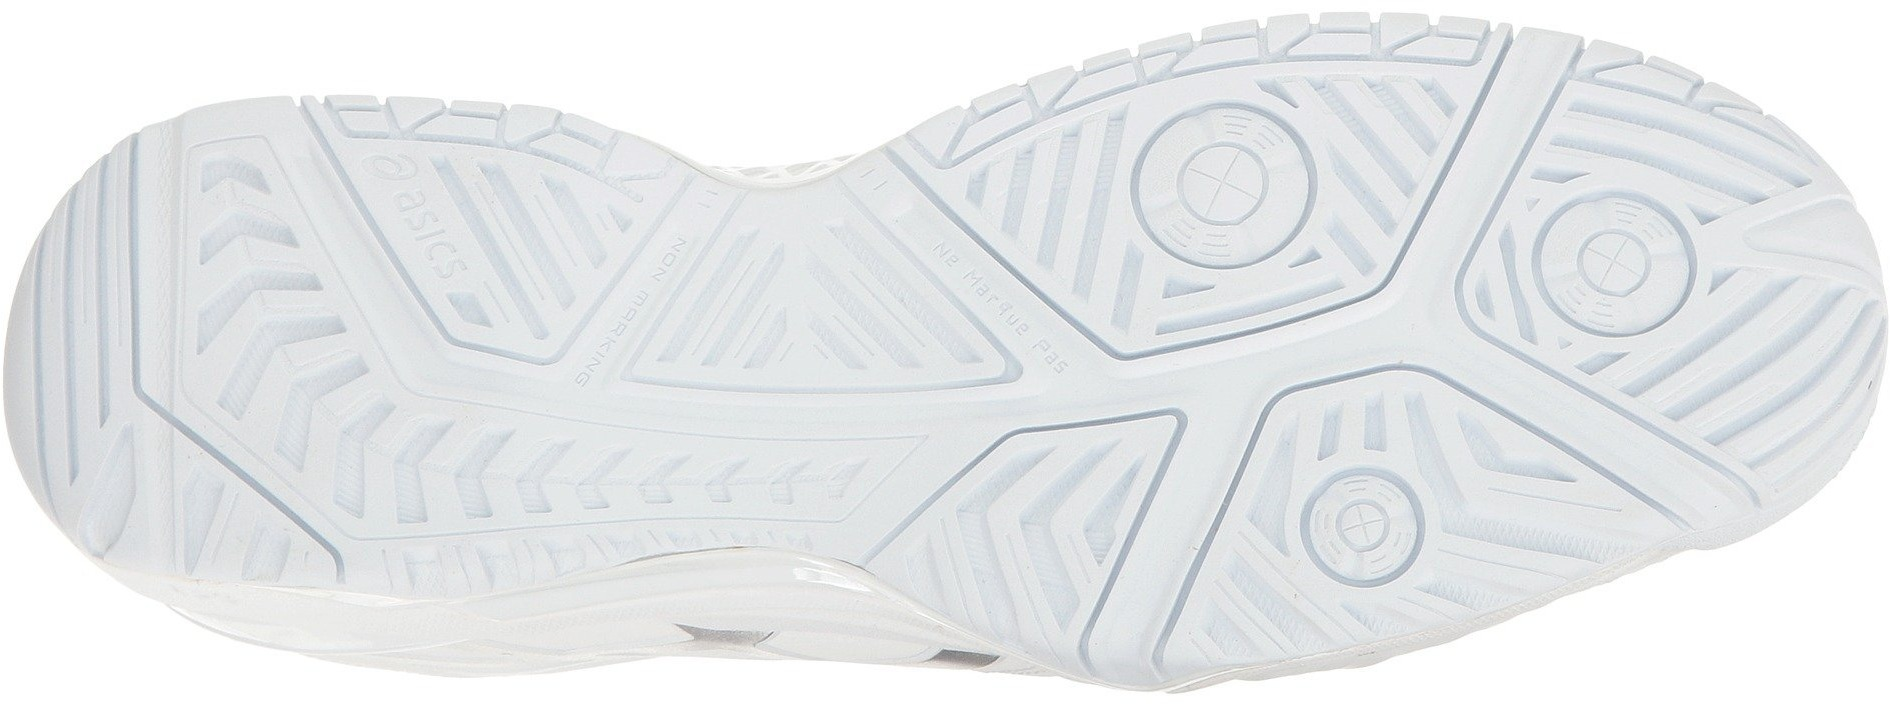chevron: (391, 389, 571, 536), (194, 278, 354, 438), (950, 446, 1105, 608), (177, 153, 295, 270)
